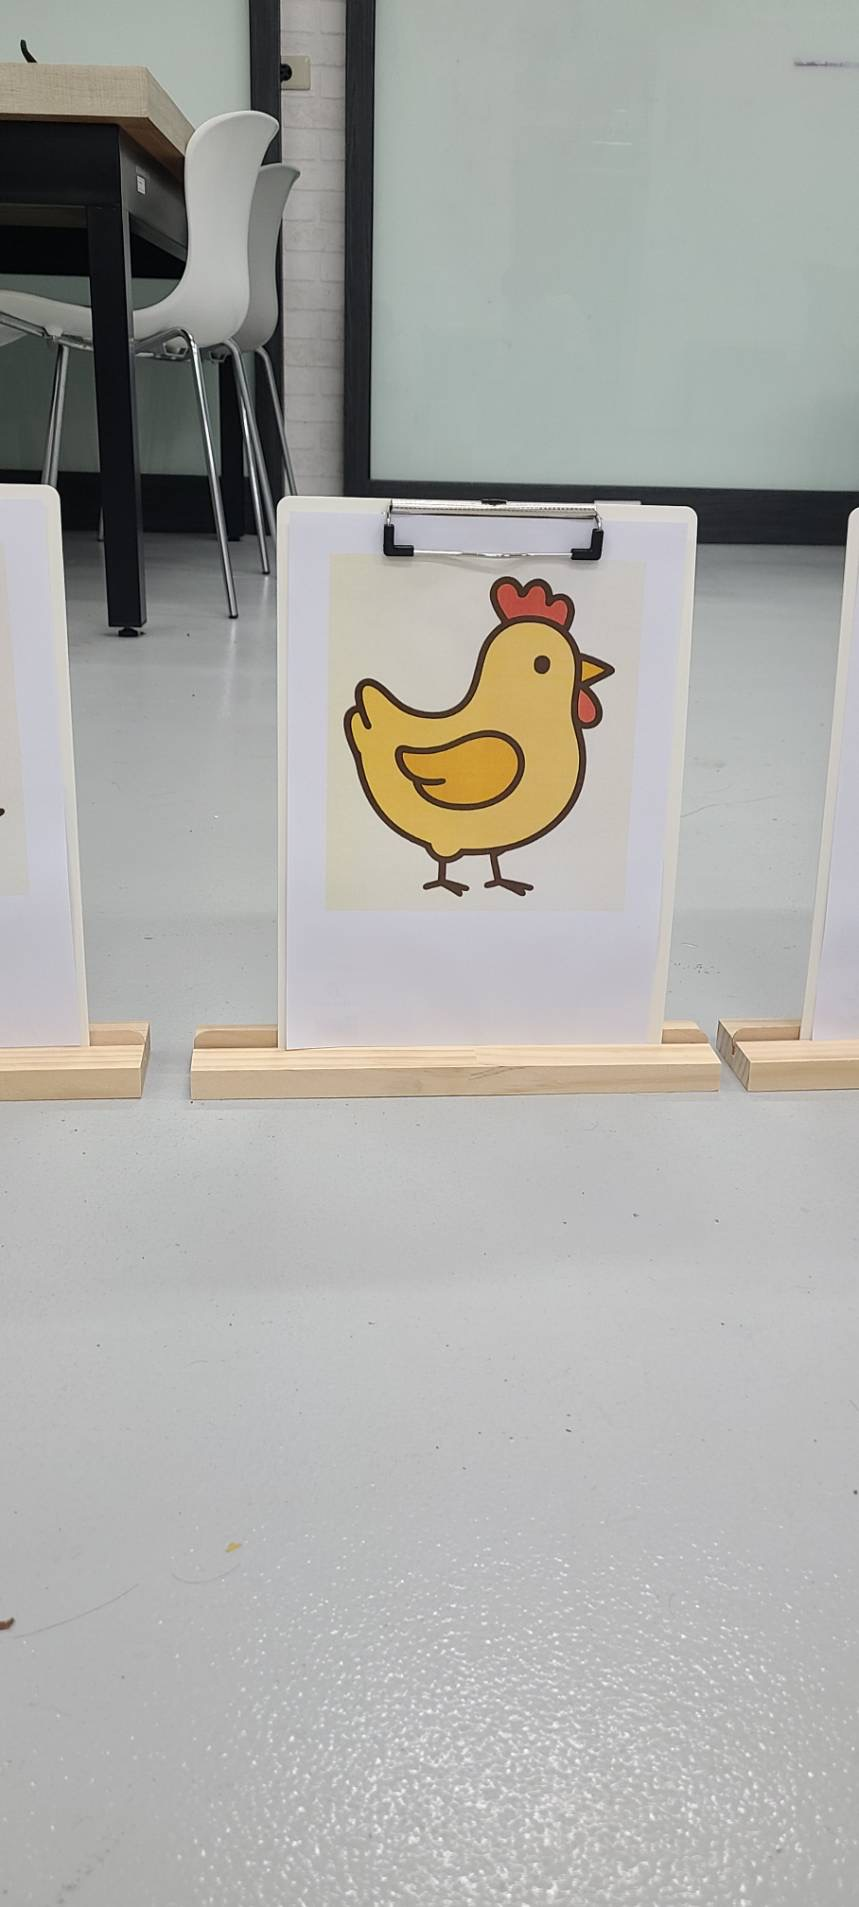chick: (341, 566, 617, 911)
